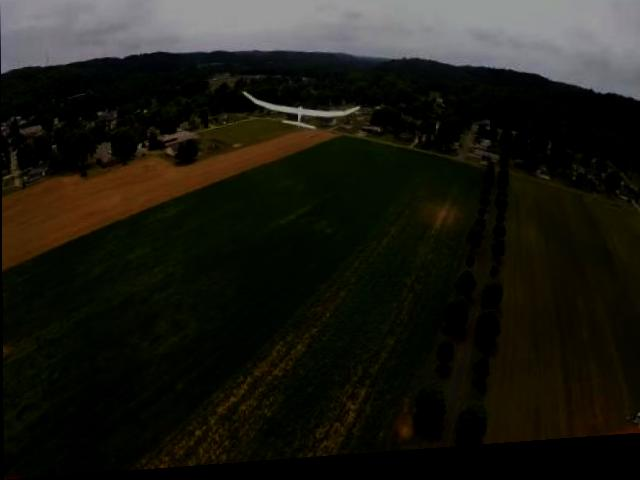uav: (238, 83, 361, 139)
